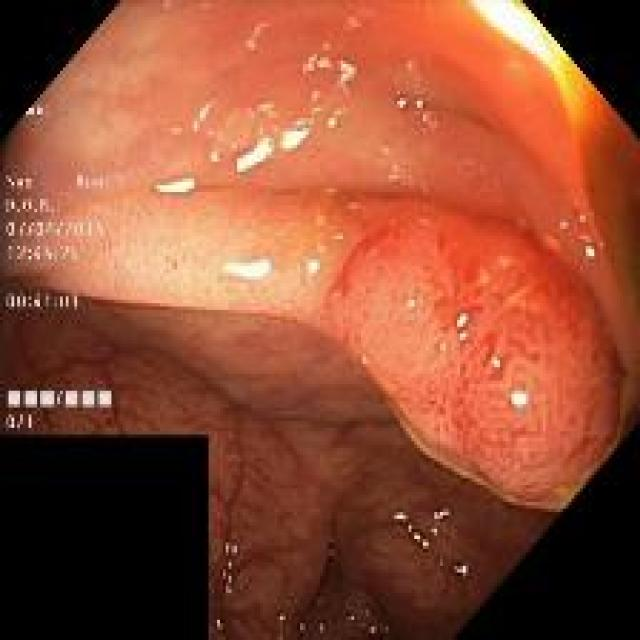Polyps: (325, 206, 621, 511)
